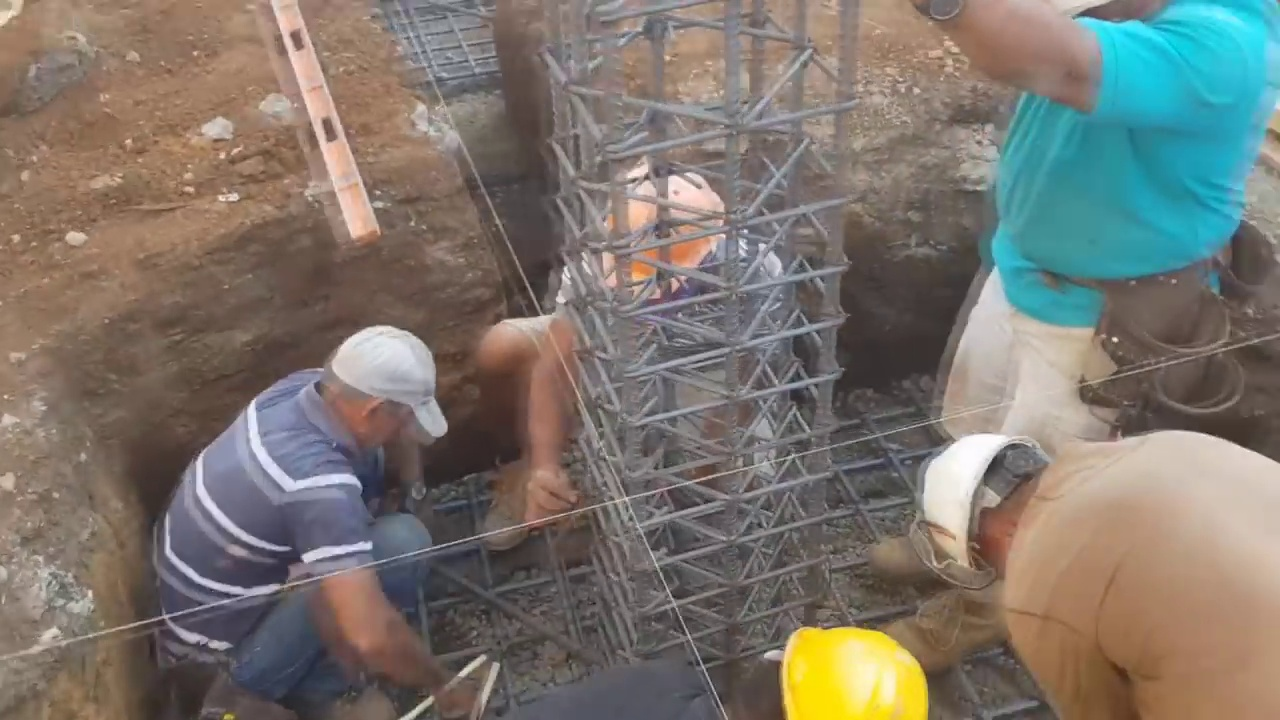helmet: (923, 444, 1048, 585), (593, 165, 722, 270), (790, 633, 939, 717)
helmet-off: (314, 321, 442, 467)
helmet-on: (921, 423, 1082, 582), (590, 153, 736, 311), (697, 627, 938, 718)
person: (876, 0, 1280, 663), (144, 311, 491, 720), (481, 140, 794, 552), (918, 416, 1280, 720), (492, 621, 940, 713)
